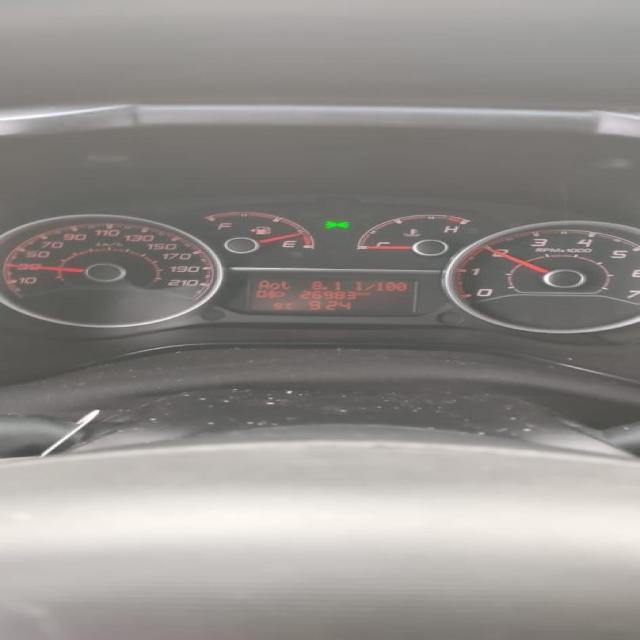odometer: (239, 275, 419, 314)
